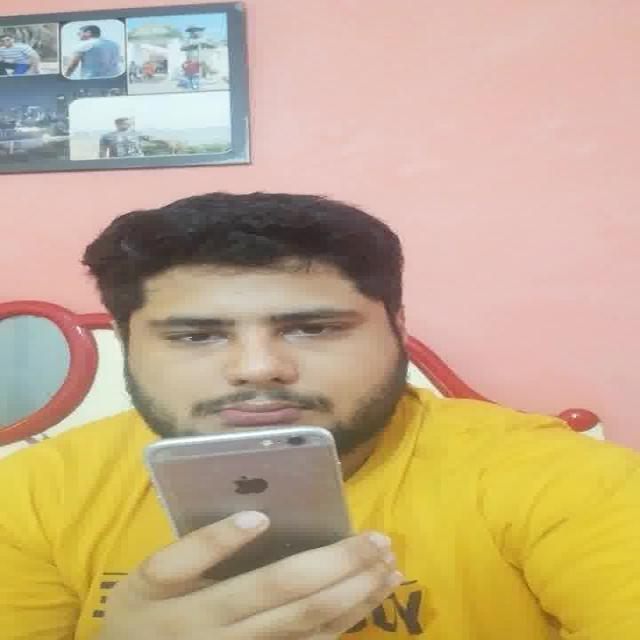phone: (150, 426, 351, 625)
